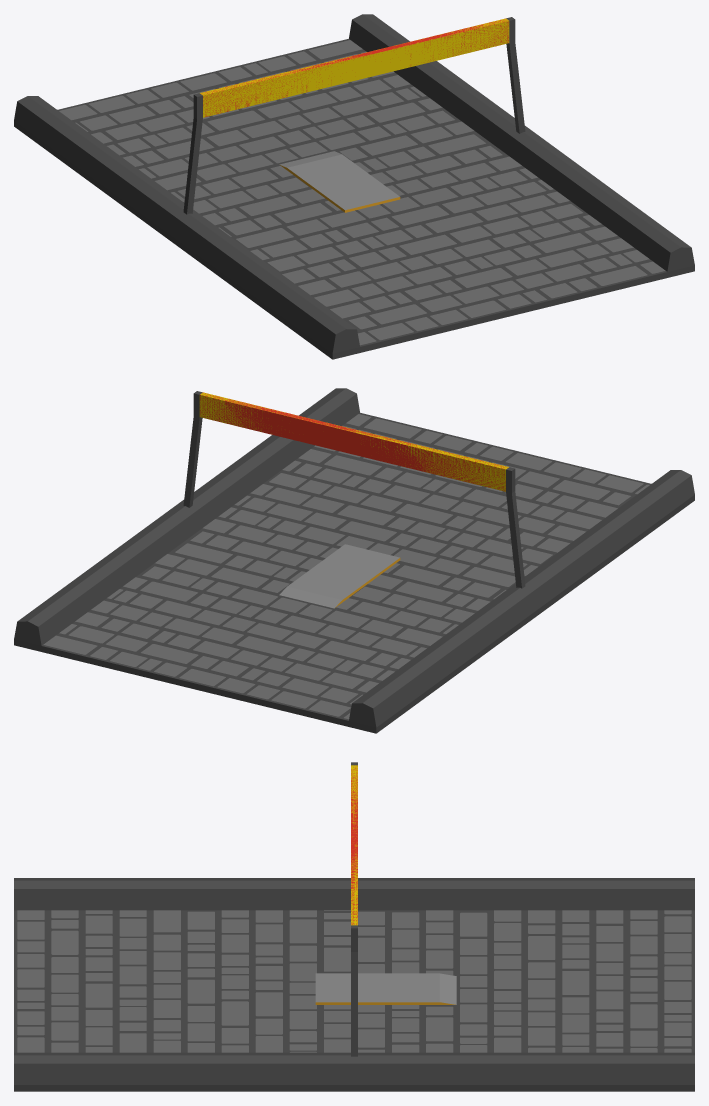
The model's file is cobblestone.glb.
3 views of the same model, one above another, from view 1: azimuth 30°, elevation 25°; view 2: azimuth 150°, elevation 25°; view 3: azimuth 270°, elevation 25° (orthographic). The views are drawn at different scales.
Visible parts, largest first — view 1: CobbleStraight, CobbleStart, CobbleCheckpoint, CobbleFinish; view 2: CobbleStraight, CobbleStart, CobbleFinish, CobbleCheckpoint; view 3: CobbleStraight, CobbleStart, CobbleCheckpoint, CobbleFinish.
Part boxes in pixels (x1=…): CobbleStraight: x1=20, y1=14, x2=692, y2=359; CobbleStart: x1=14, y1=14, x2=694, y2=359; CobbleCheckpoint: x1=183, y1=17, x2=525, y2=214; CobbleFinish: x1=201, y1=18, x2=508, y2=116; CobbleStraight: x1=25, y1=388, x2=691, y2=733; CobbleStart: x1=14, y1=388, x2=694, y2=733; CobbleFinish: x1=200, y1=392, x2=507, y2=490; CobbleCheckpoint: x1=183, y1=391, x2=525, y2=588; CobbleStraight: x1=14, y1=880, x2=694, y2=1085; CobbleStart: x1=14, y1=878, x2=694, y2=1091; CobbleCheckpoint: x1=351, y1=762, x2=357, y2=1056; CobbleFinish: x1=351, y1=766, x2=357, y2=924.
Size of the model in its own units: 13.13 by 4.92 by 20.
